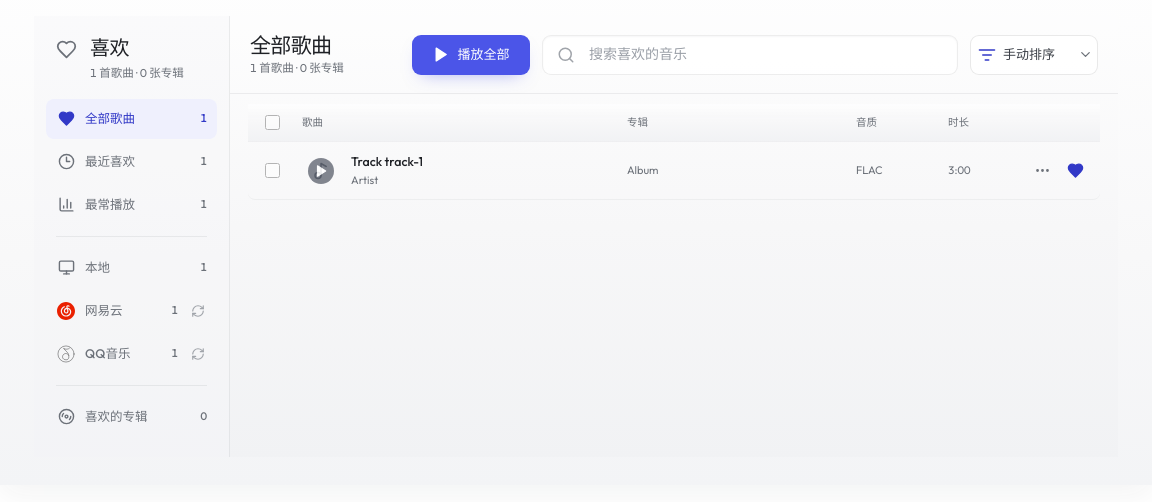
Test case: LikedPage › shows selection actions without offering download
Expected: the text "Track track-1" is shown, 351,153 -> 423,169
What coordinates should you click on to do the following:
click the checkbox named "选择 Track track-1"
I would click on:
 (272, 170)
Its box is 264,163 -> 280,178.
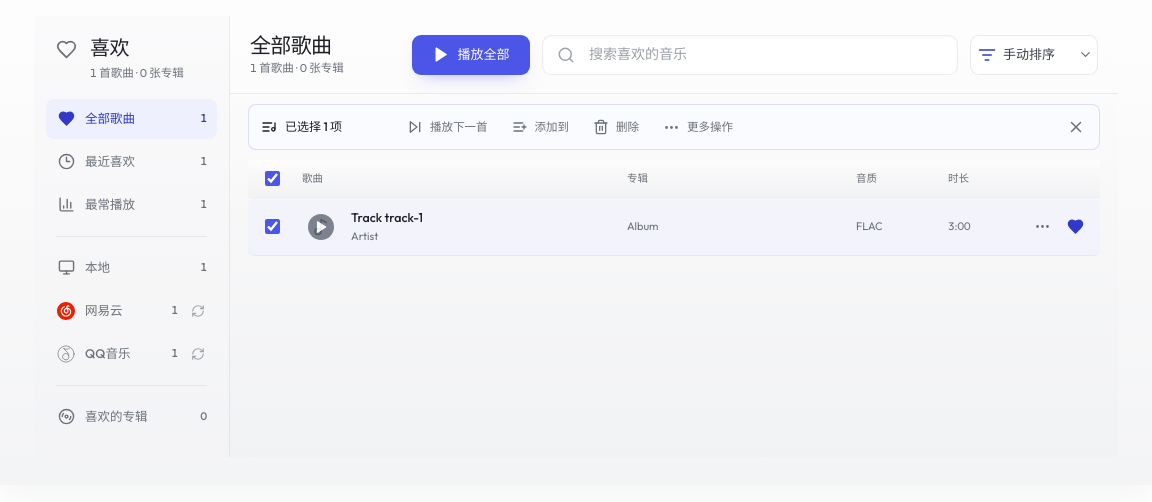
Result: the element named "已选歌曲操作" is shown at 248,104 -> 1100,150
Result: the button "播放下一首" is shown at 397,111 -> 498,143
Result: the button "添加到" is shown at 502,111 -> 579,143
